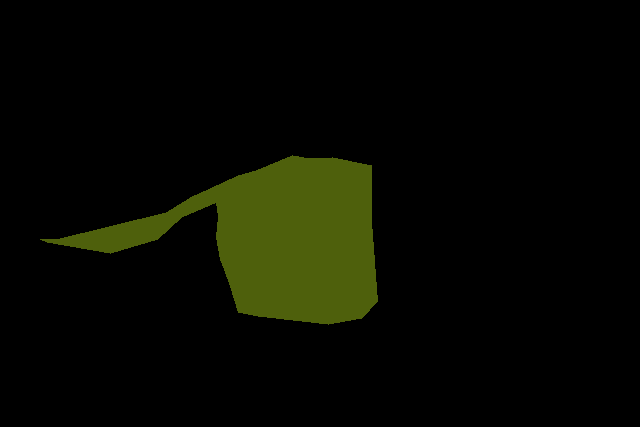Train: (40, 155, 377, 324)
